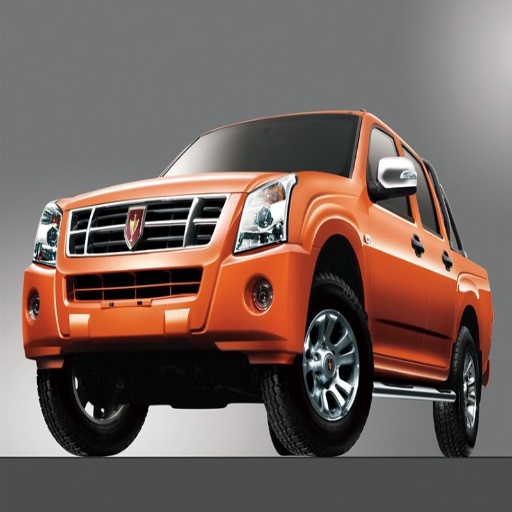front_bumper: (25, 192, 317, 363)
front_glass: (214, 116, 360, 175)
front_left_door: (365, 119, 430, 360)
trunk: (462, 259, 491, 327)
